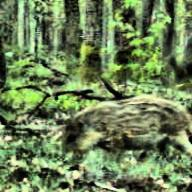boar: (54, 92, 191, 162)
